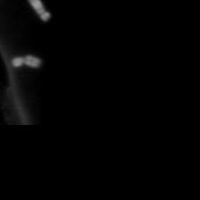chromosome: (28, 0, 50, 22), (11, 55, 40, 70)
